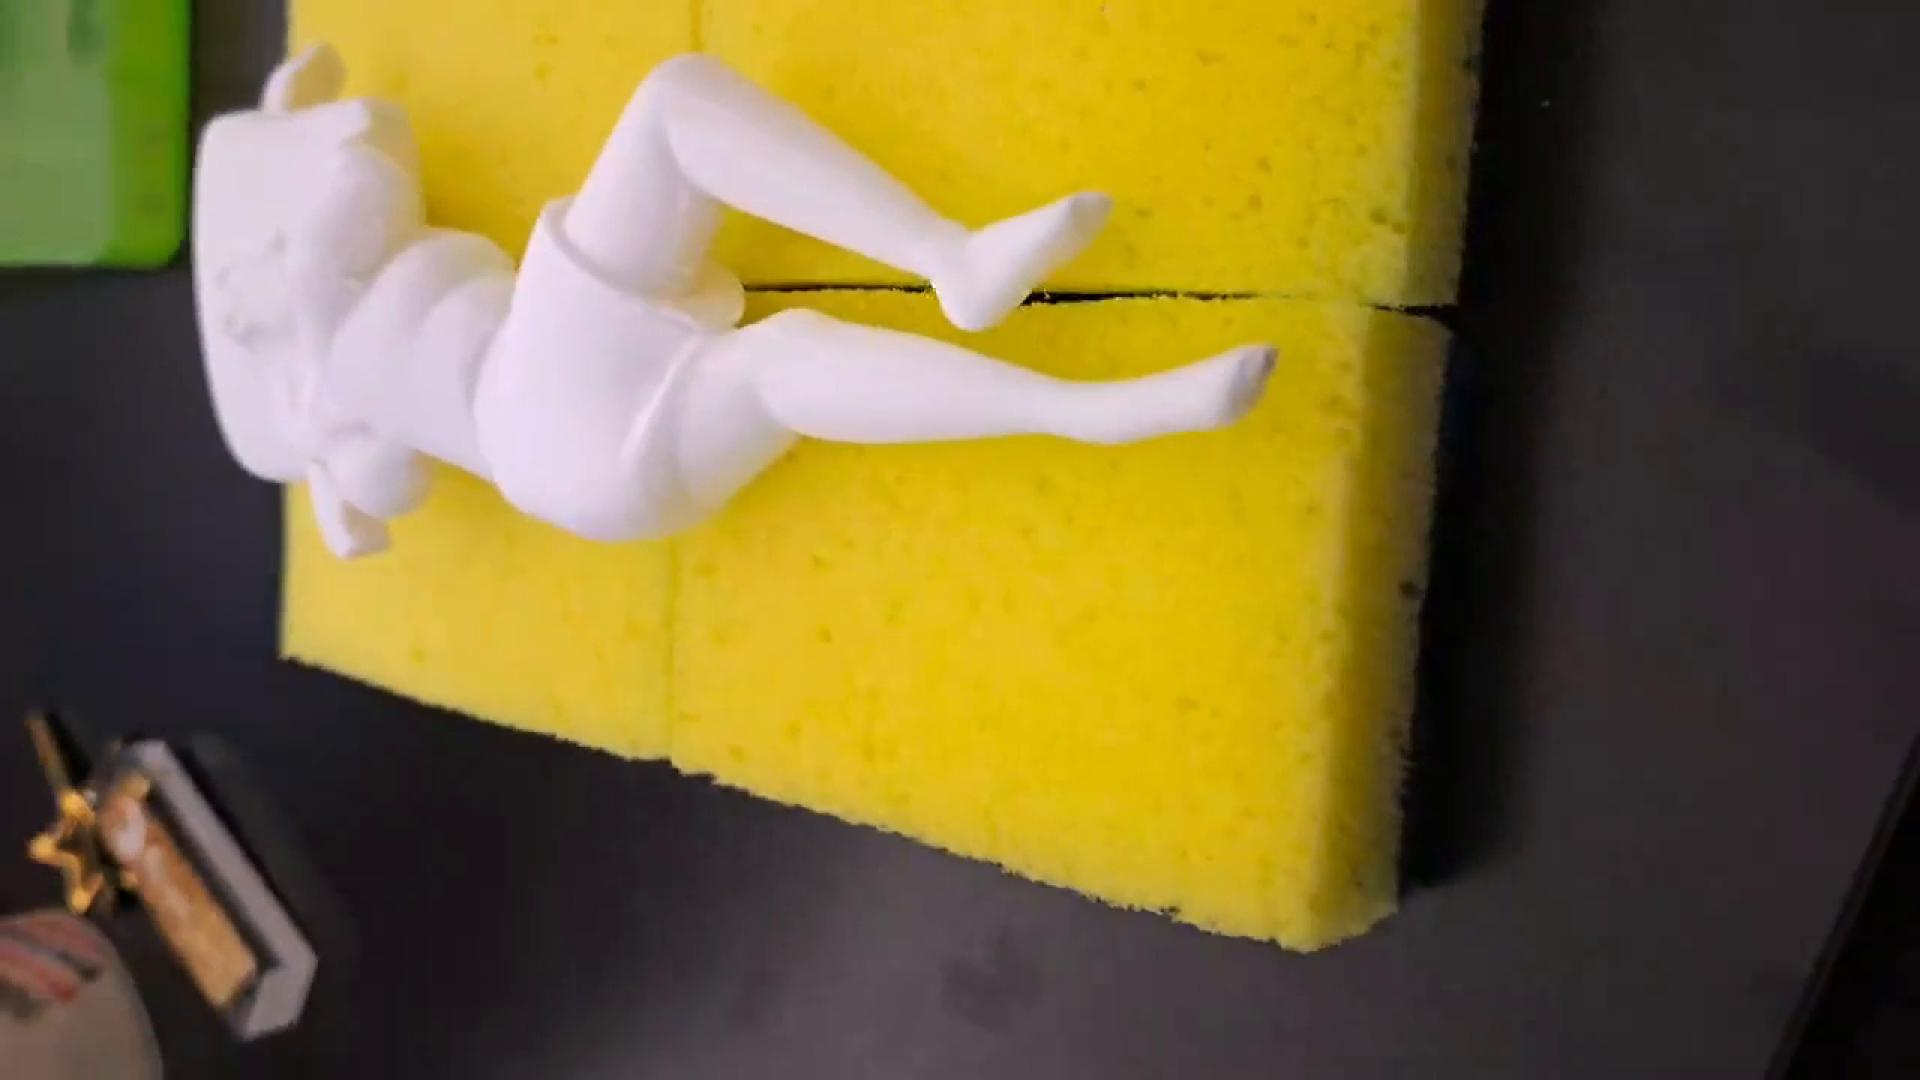Good-style: (84, 45, 1403, 587)
